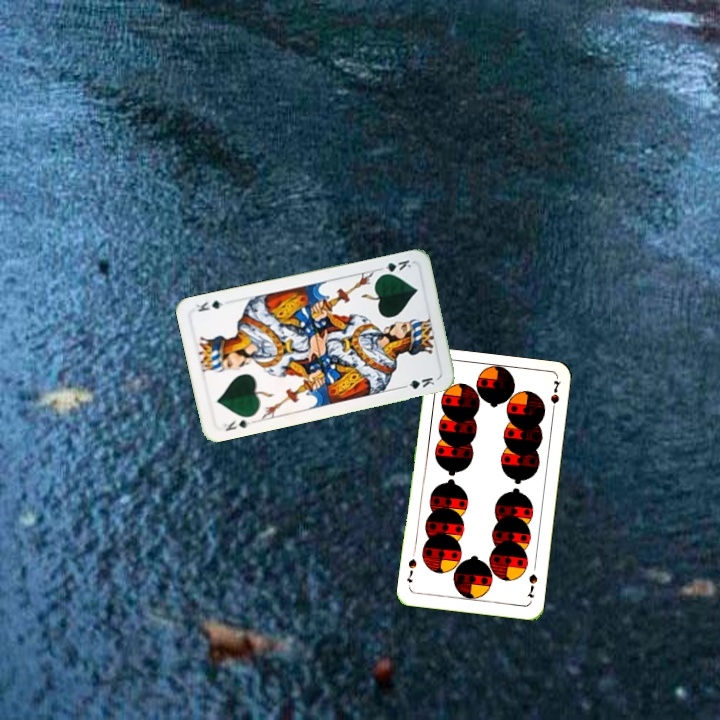GK: (374, 256, 414, 278), (220, 415, 256, 434)
S7: (523, 570, 540, 601)
